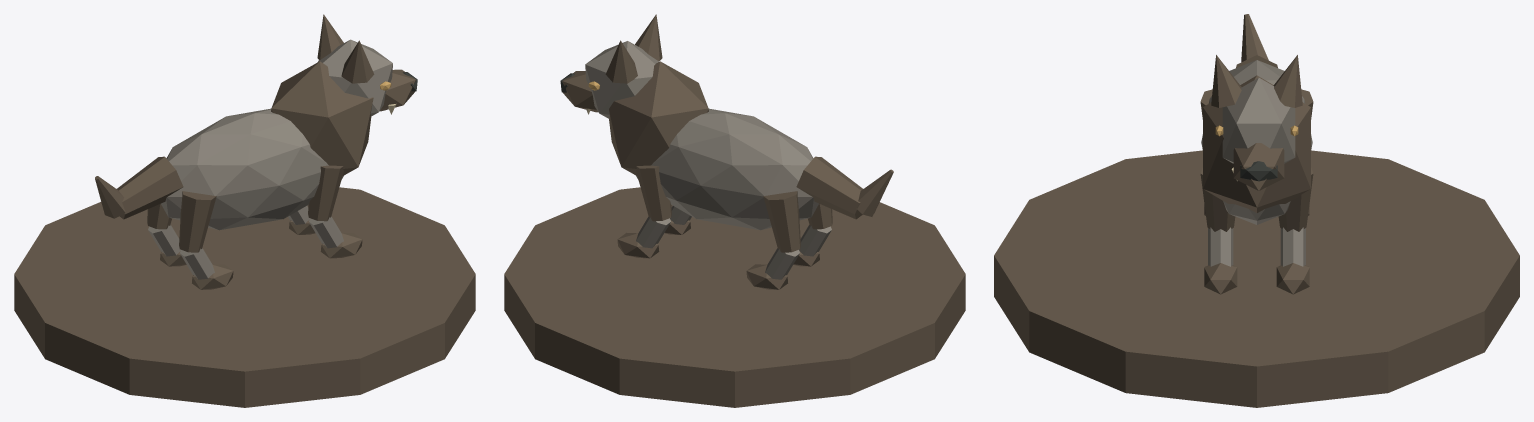
The model's file is WorldParty_Direwolves.fbx.
3 views of the same model, side by side, from view 1: azimuth 30°, elevation 25°; view 2: azimuth 150°, elevation 25°; view 3: azimuth 270°, elevation 25° (orthographic). The views are drawn at different scales.
Parts seen in each view (by area): view 1: WorldParty_Direwolves; view 2: WorldParty_Direwolves; view 3: WorldParty_Direwolves.
Boxes of the visible parts, x1,y1,x2,y2 form: WorldParty_Direwolves: [14, 14, 475, 407]; WorldParty_Direwolves: [504, 14, 965, 407]; WorldParty_Direwolves: [994, 14, 1519, 407].
Bounding box in the file's own units: 1.38 × 0.8572 × 1.38.
